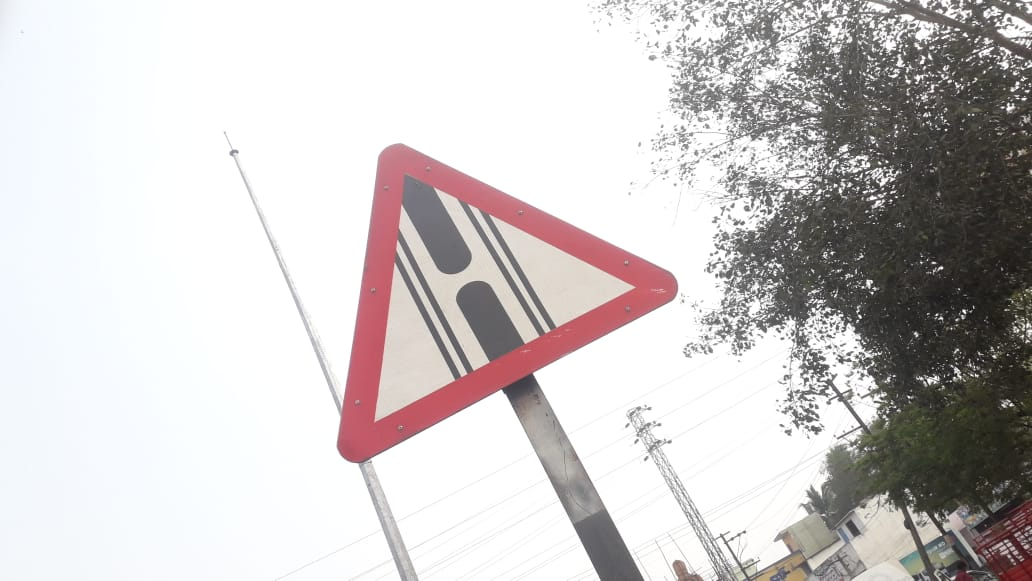highway go straight: (333, 140, 703, 471)
